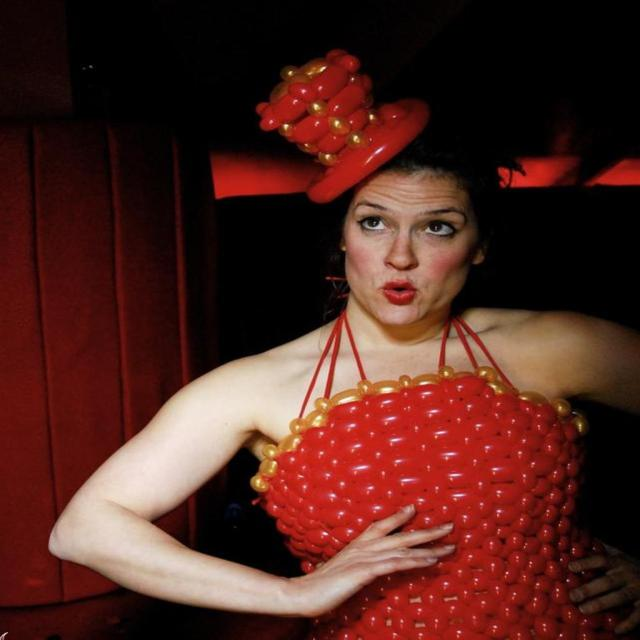Face: (329, 168, 484, 338)
